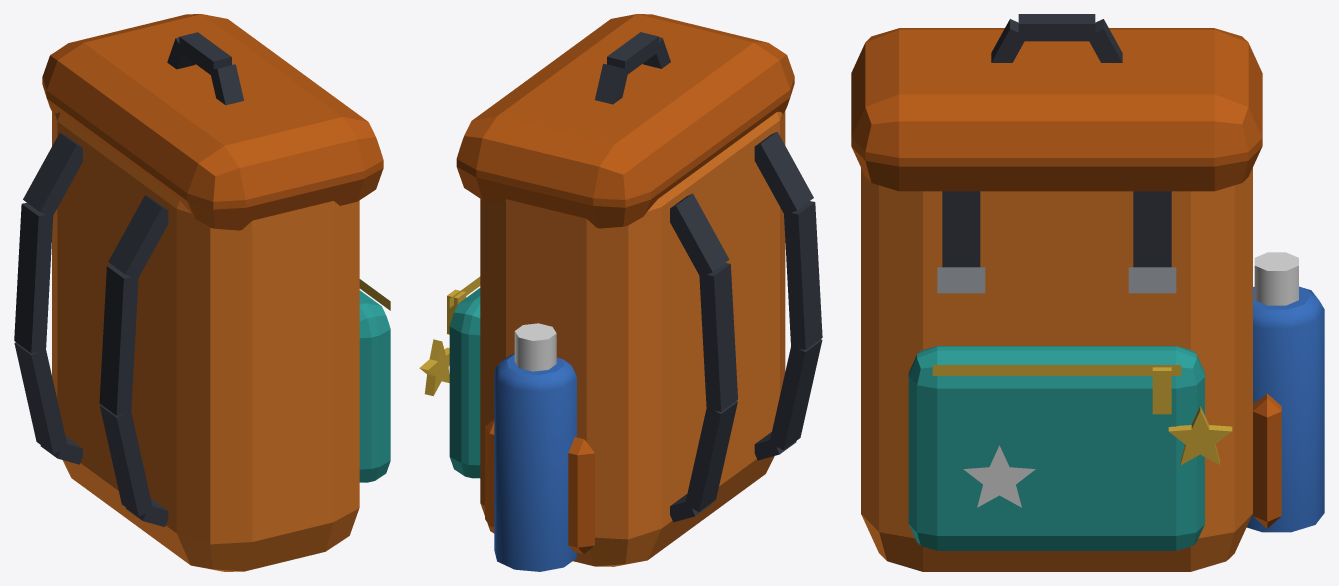
The model's file is school-prop3.glb.
3 views of the same model, side by side, from view 1: azimuth 30°, elevation 25°; view 2: azimuth 150°, elevation 25°; view 3: azimuth 270°, elevation 25° (orthographic). The views are drawn at different scales.
Visible parts, largest first — view 1: school-prop3; view 2: school-prop3; view 3: school-prop3.
Part boxes in pixels (x1,y1,x2,y2): school-prop3: (14, 14, 390, 571); school-prop3: (419, 14, 822, 571); school-prop3: (851, 14, 1324, 571).
Bounding box in the file's own units: 0.752 × 1.22 × 0.99.
